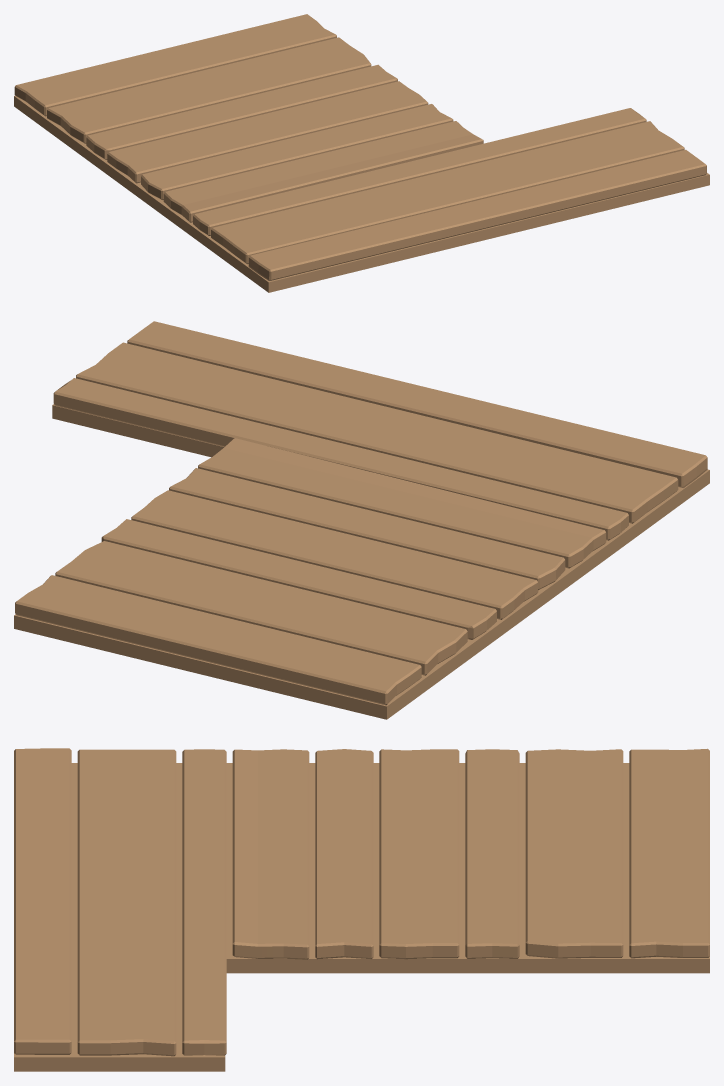
Rendered from floor-e.glb.
The picture shows the model from 3 angles, top to bottom: view 1: azimuth 30°, elevation 25°; view 2: azimuth 150°, elevation 25°; view 3: azimuth 270°, elevation 25°; orthographic projection. The views are drawn at different scales.
Parts seen in each view (by area): view 1: Floor E; view 2: Floor E; view 3: Floor E.
Part boxes in pixels (<box>): Floor E: <box>14,14,709,292</box>; Floor E: <box>14,321,709,719</box>; Floor E: <box>14,748,709,1071</box>.
Size of the model in its own units: 3.08 by 0.1537 by 3.08.
